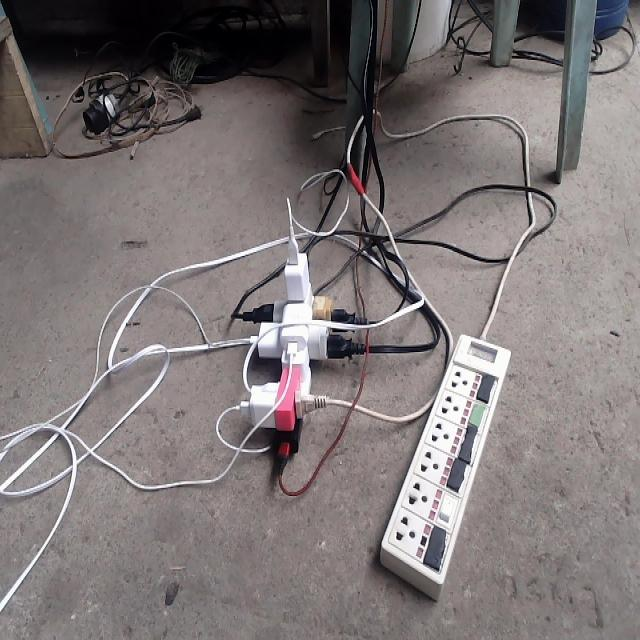-: (243, 237, 351, 452)
